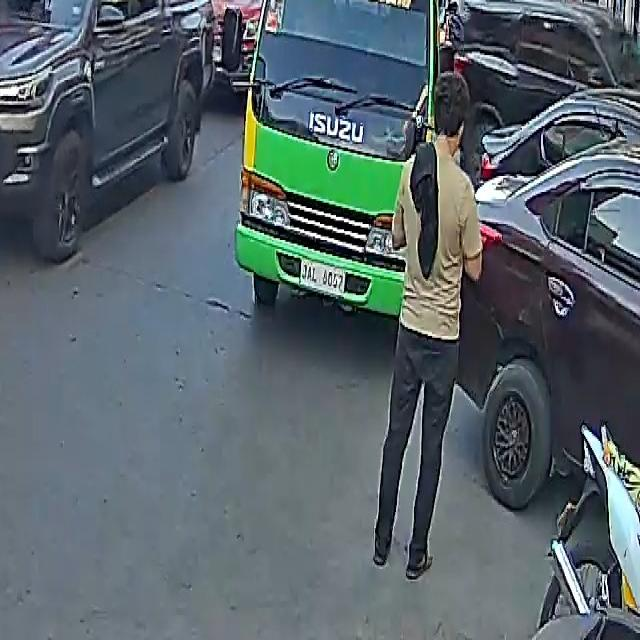car: (456, 88, 640, 524), (0, 0, 219, 263), (456, 0, 640, 160)
